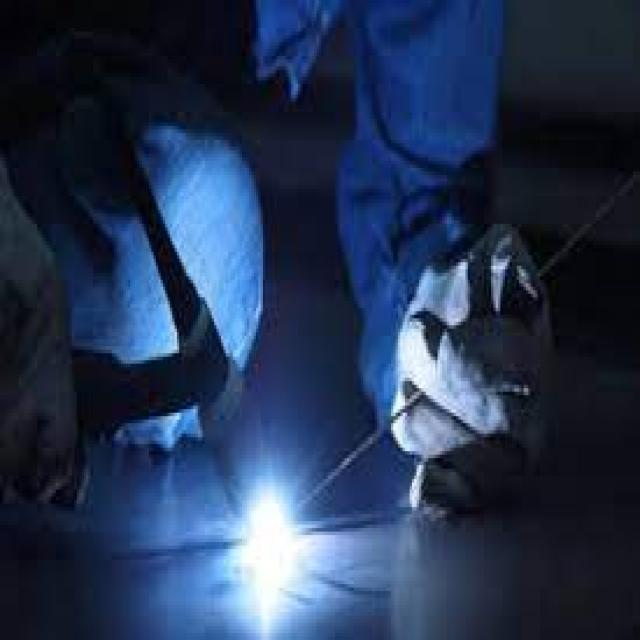welding: (247, 495, 298, 582)
